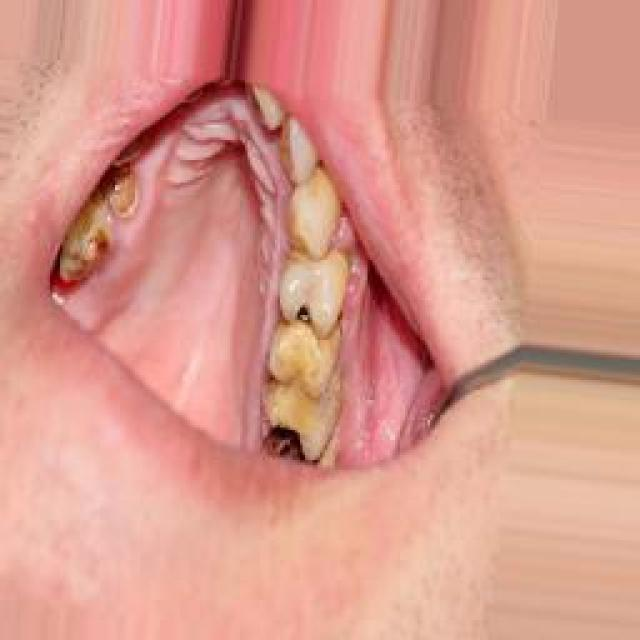caries: (226, 353, 390, 469), (89, 164, 148, 304)
